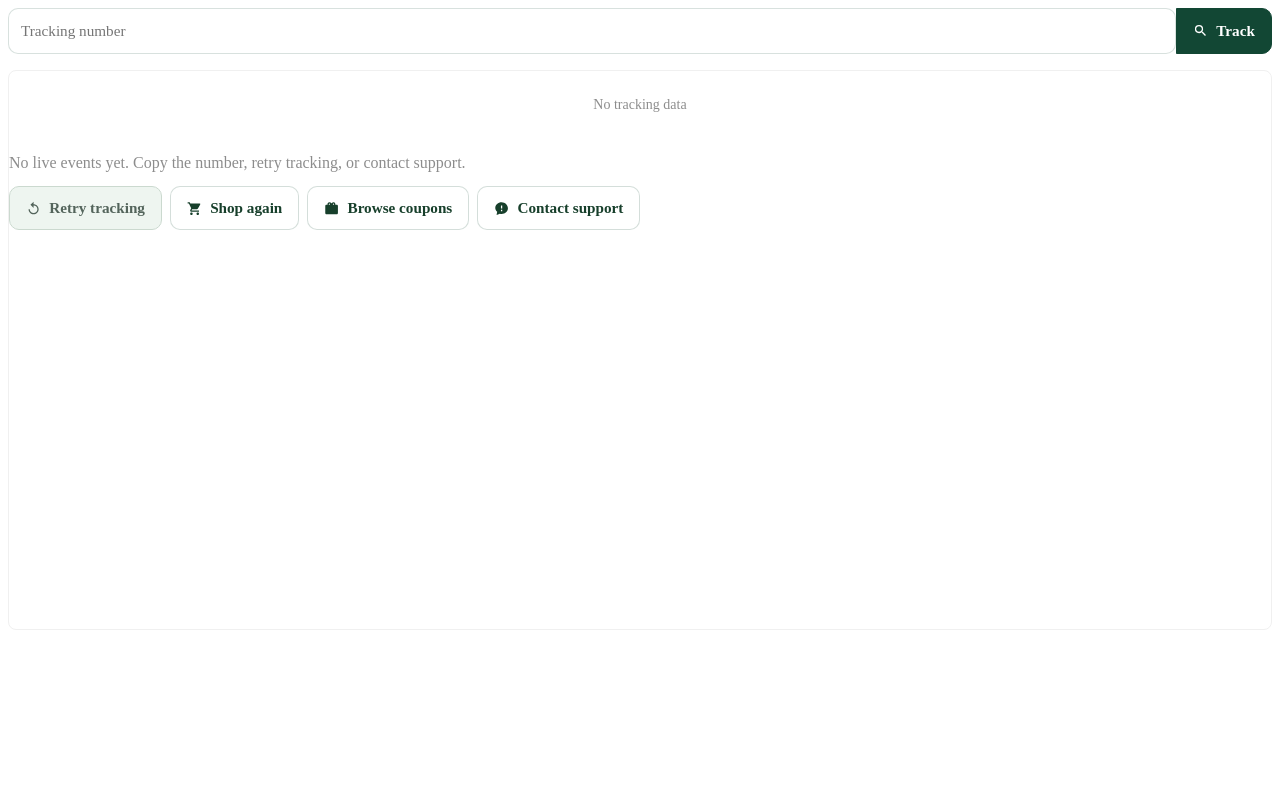
SeventeenTrackWidget › queries the backend logistics API when the user searches
The image size is (1280, 800).
Type " 1Z999 " into the field with placeholder "Tracking number" at [592, 31], box [21,9,1163,53]
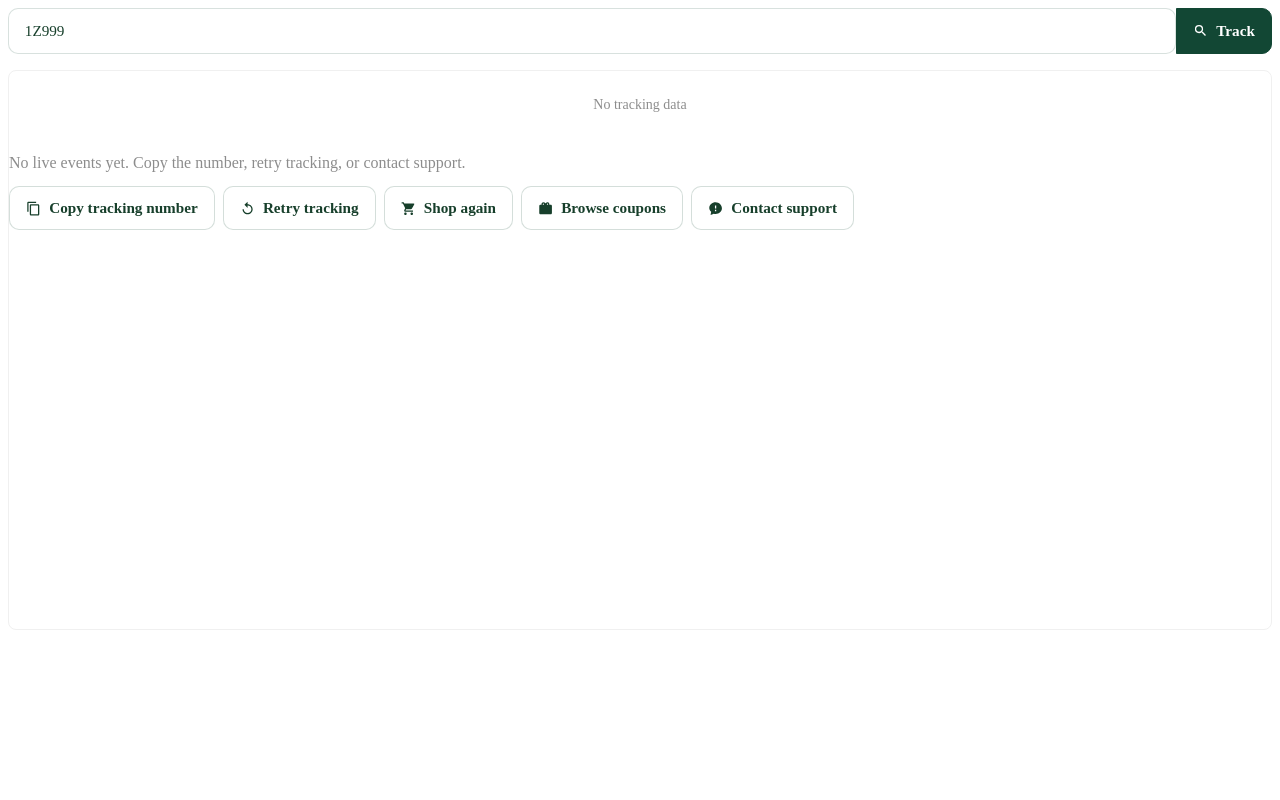
Click the button with aria-label "Track shipment" at [1224, 31], box [1176,8,1272,54]
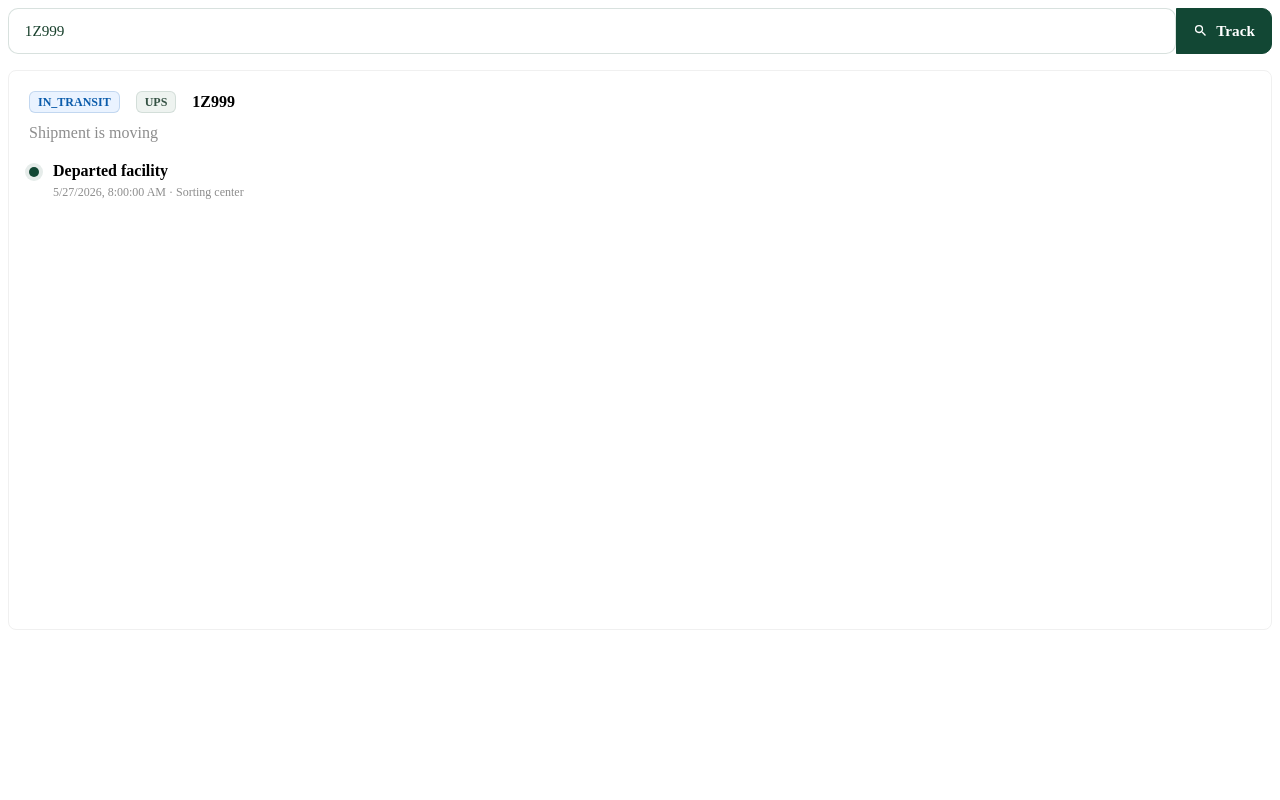
Result: the text "Departed facility" is shown at [53,162,168,179]
Result: the text "Shipment is moving" is shown at [29,124,158,141]
